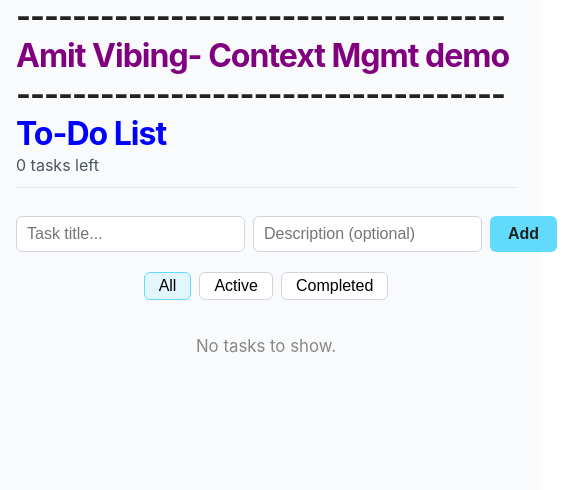
Scenario: App Component › Filtering Tasks › shows only completed tasks when "Completed" filter is selected
Type "Active task 1" into the field with placeholder "Task title..." at {"x": 130, "y": 234}, box x1=16 y1=216 x2=245 y2=252
Click the button "Add" at {"x": 524, "y": 234}, box x1=490 y1=216 x2=557 y2=252
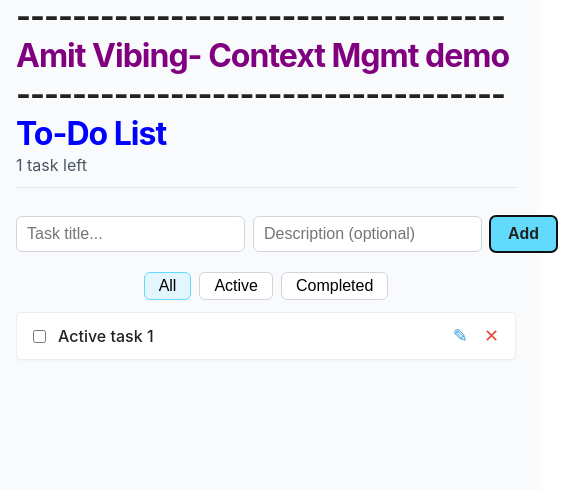
Type "Active task 2" into the field with placeholder "Task title..." at {"x": 130, "y": 234}, box x1=16 y1=216 x2=245 y2=252
Click the button "Add" at {"x": 524, "y": 234}, box x1=490 y1=216 x2=557 y2=252
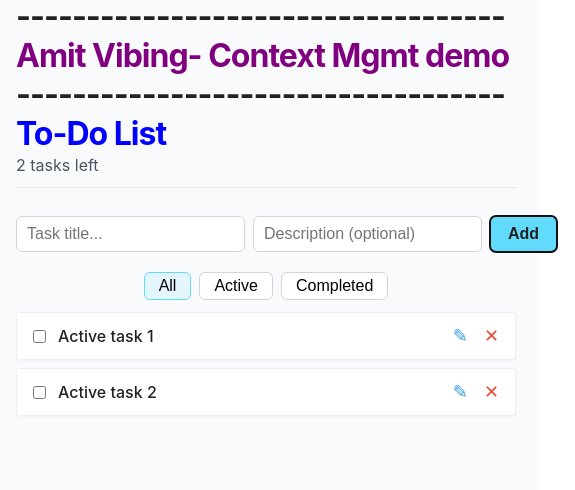
Type "Completed task" into the field with placeholder "Task title..." at {"x": 130, "y": 234}, box x1=16 y1=216 x2=245 y2=252
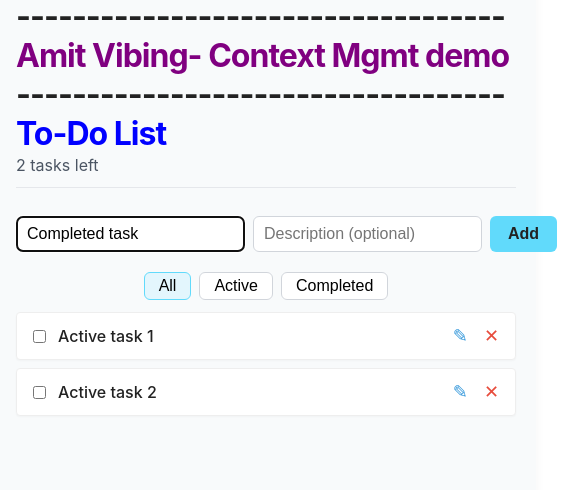
Click the button "Add" at {"x": 524, "y": 234}, box x1=490 y1=216 x2=557 y2=252
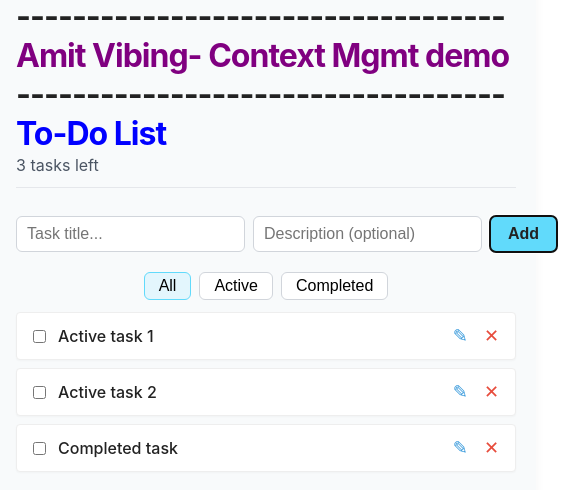
Click the checkbox named "Mark as complete" next to "Completed task" at {"x": 40, "y": 448}, box x1=33 y1=442 x2=46 y2=454
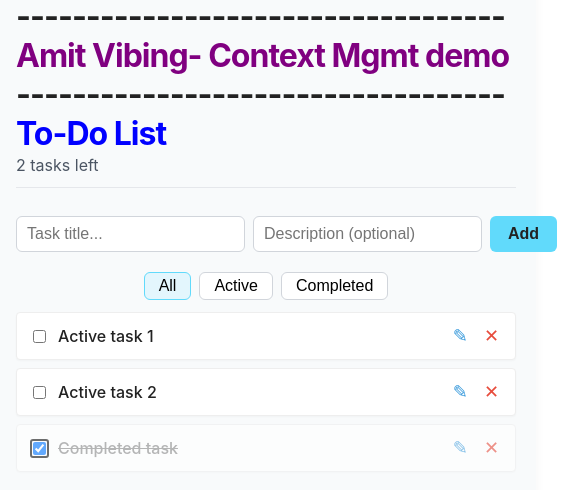
Click the button "Completed" at {"x": 335, "y": 286}, box x1=281 y1=272 x2=388 y2=300
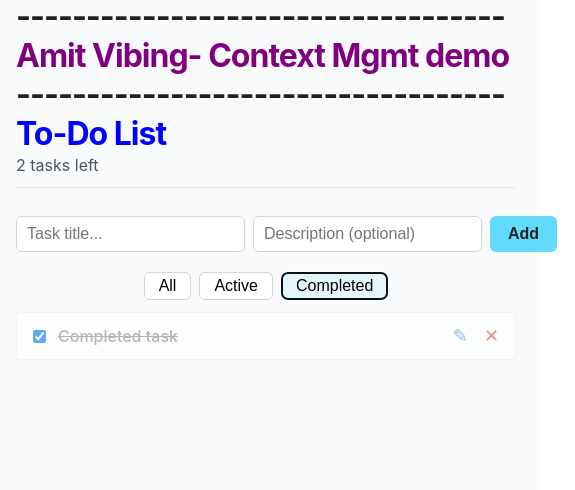
Expected: the text "Completed task" is shown, x1=58 y1=326 x2=178 y2=346
Expected: the text "Active task 1" is gone
Expected: the text "Active task 2" is gone
